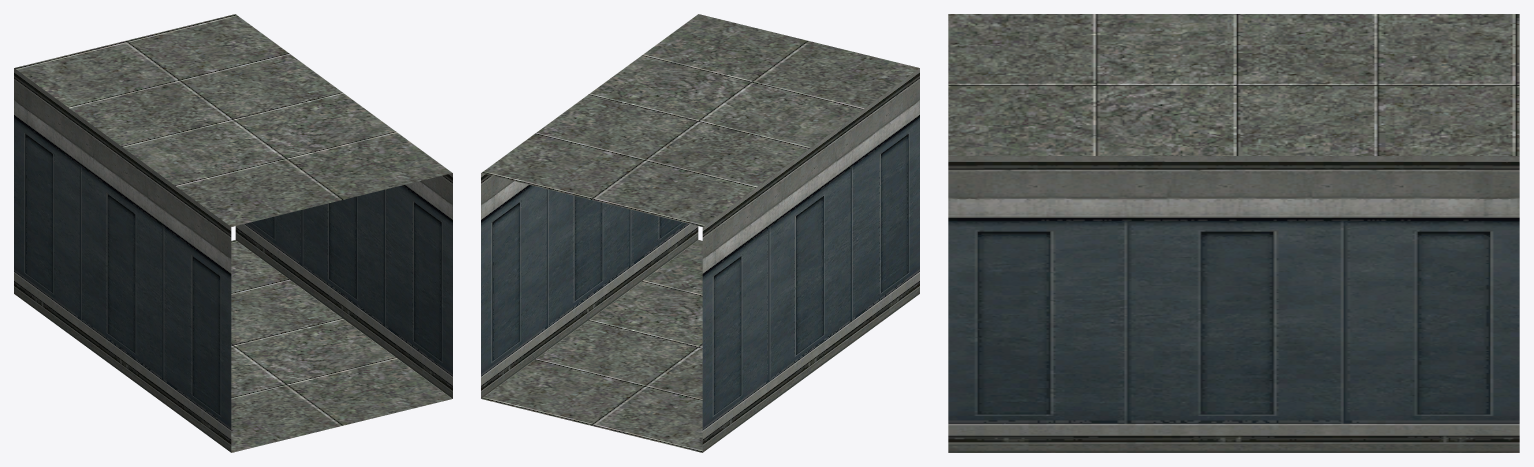
Rendered from thm_corl_imprv_building_s06_r3_spawn1_mesh_r3.fbx.
3 renders of one model, left to right at view 1: azimuth 30°, elevation 25°; view 2: azimuth 150°, elevation 25°; view 3: azimuth 270°, elevation 25°, orthographic. The views are drawn at different scales.
Visible parts, largest first — view 1: mesh_node; view 2: mesh_node; view 3: mesh_node.
Part boxes in pixels (box(x1,y1,x2,y2)): mesh_node: box(14, 14, 452, 452); mesh_node: box(481, 14, 919, 452); mesh_node: box(948, 14, 1519, 452).
Bounding box in the file's own units: 4 × 3.9 × 6.8.
